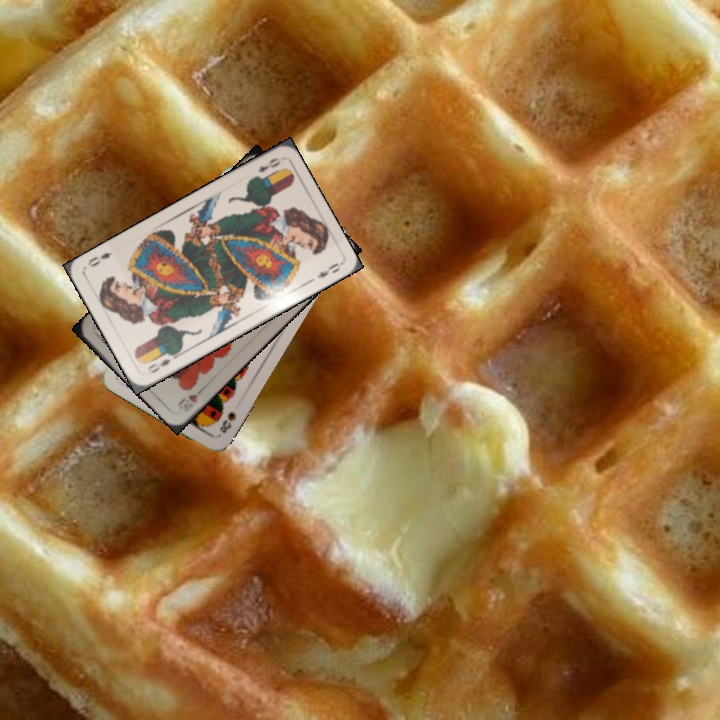EO: (144, 349, 179, 376), (254, 153, 284, 175)
H10: (174, 390, 200, 408)
S8: (216, 407, 239, 436)
